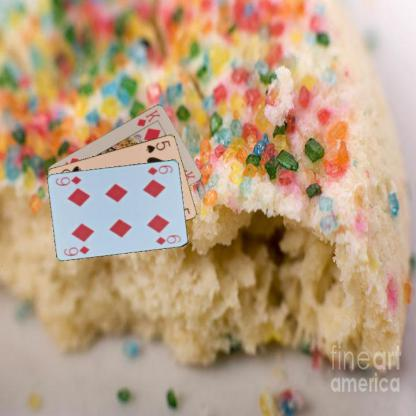5s: (143, 138, 172, 154)
6d: (61, 243, 91, 257), (145, 162, 174, 176)
Kd: (134, 107, 162, 128)
